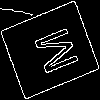M: (25, 25, 80, 80)
